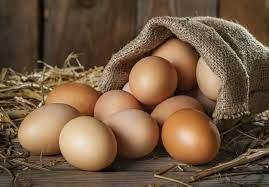egg: (58, 112, 127, 174), (160, 107, 222, 162), (18, 102, 80, 156), (106, 107, 158, 160), (129, 56, 180, 105), (152, 37, 198, 90), (45, 80, 99, 121), (94, 88, 142, 120)
